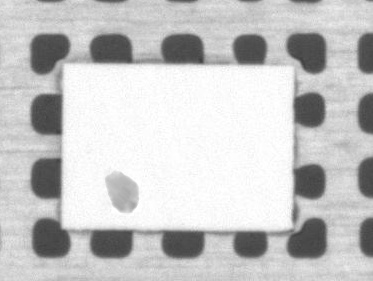DIE_INK: (133, 125, 188, 163)
